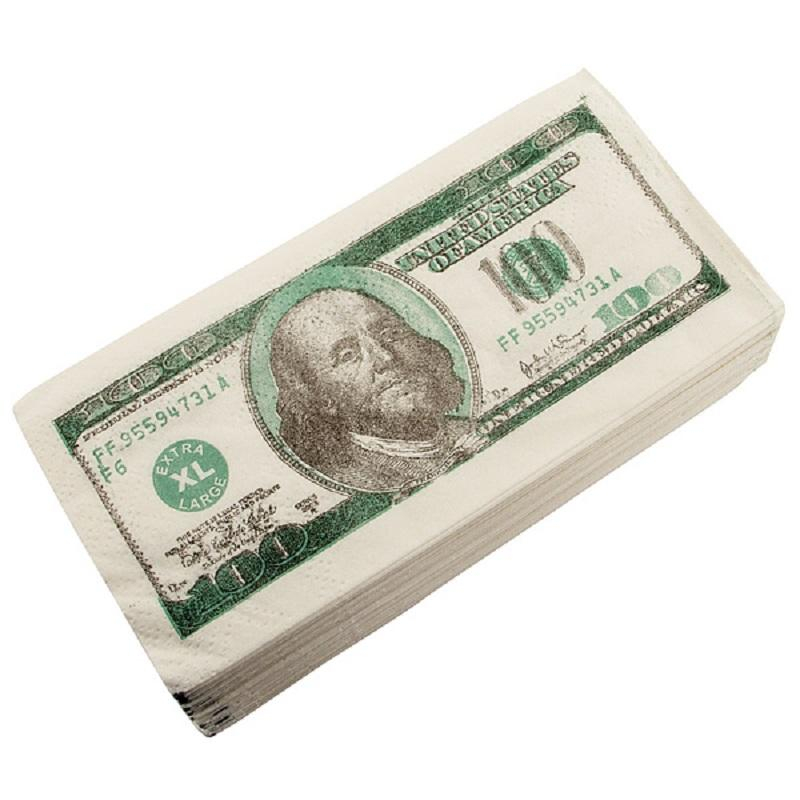cash: (11, 70, 778, 690)
